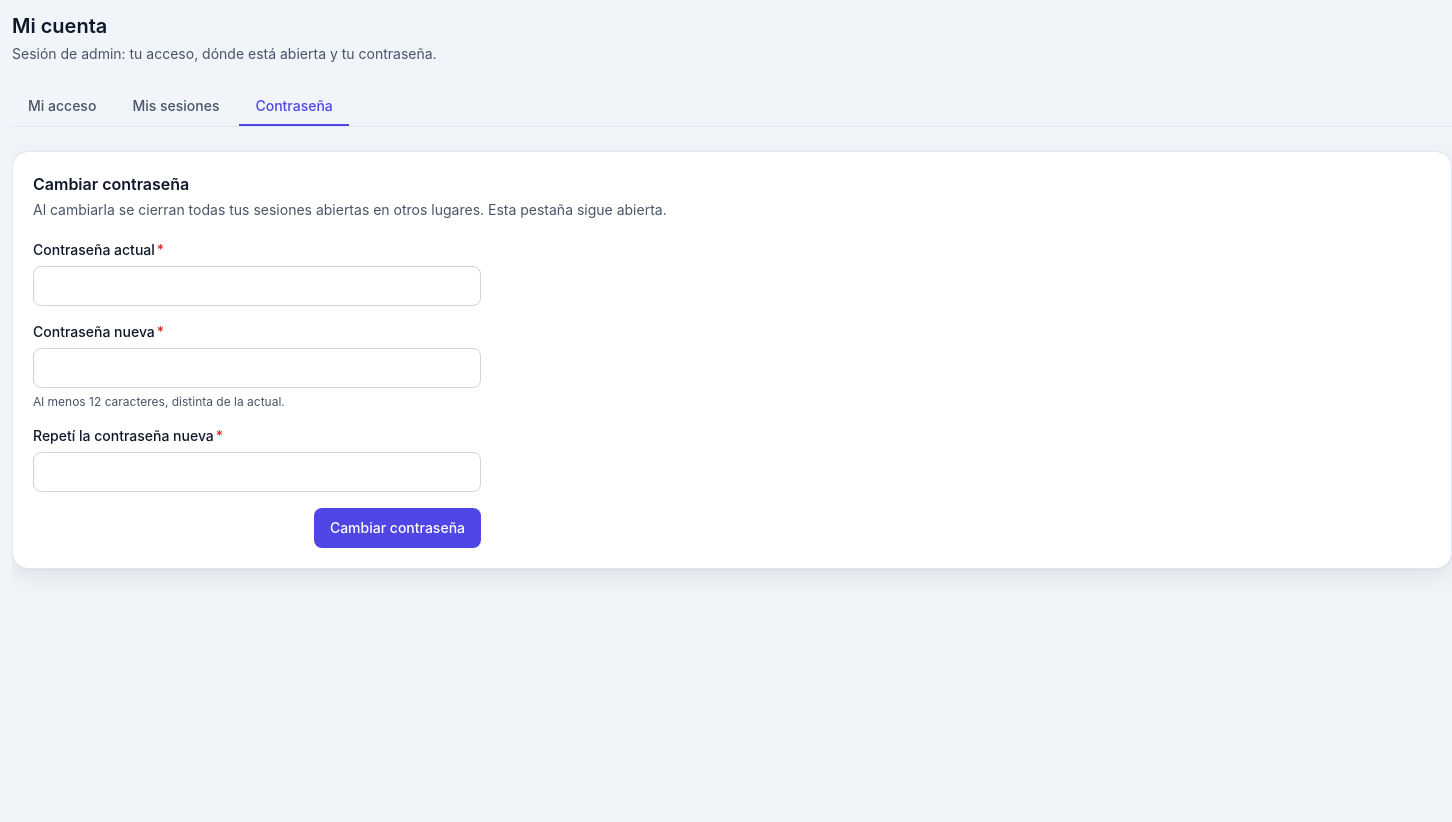
Test: MyAccountPage — «Contraseña» › pluraliza bien con 0 sesiones cerradas
Type "actual-de-doce-chars" into the password field labelled "Contraseña actual*" at (257, 286), box [33,266,481,306]
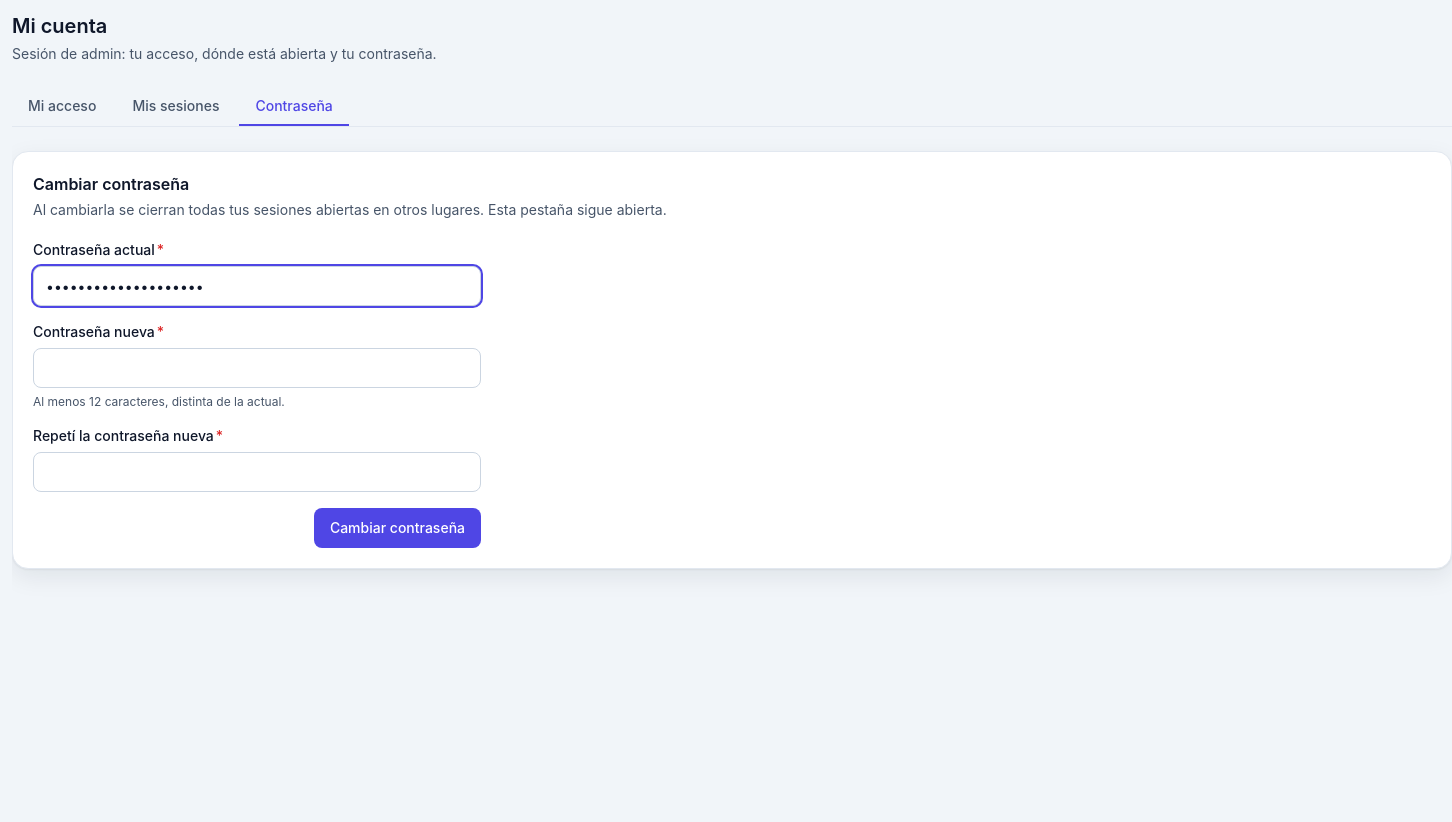
Type "nueva-de-doce-chars" into the password field labelled "Contraseña nueva*" at (257, 368), box [33,348,481,388]
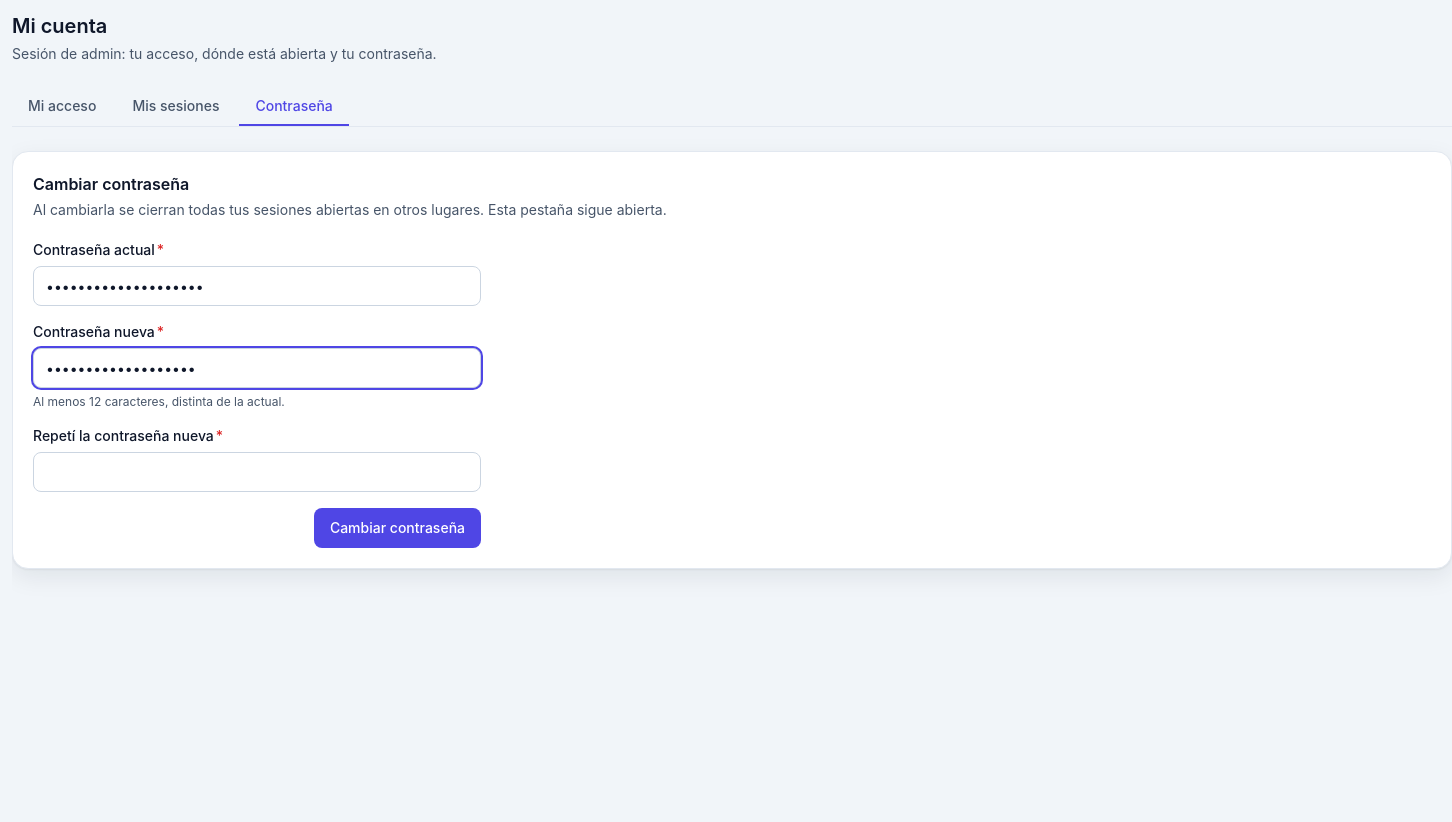
Type "nueva-de-doce-chars" into the password field labelled "Repetí la contraseña nueva*" at (257, 472), box [33,452,481,492]
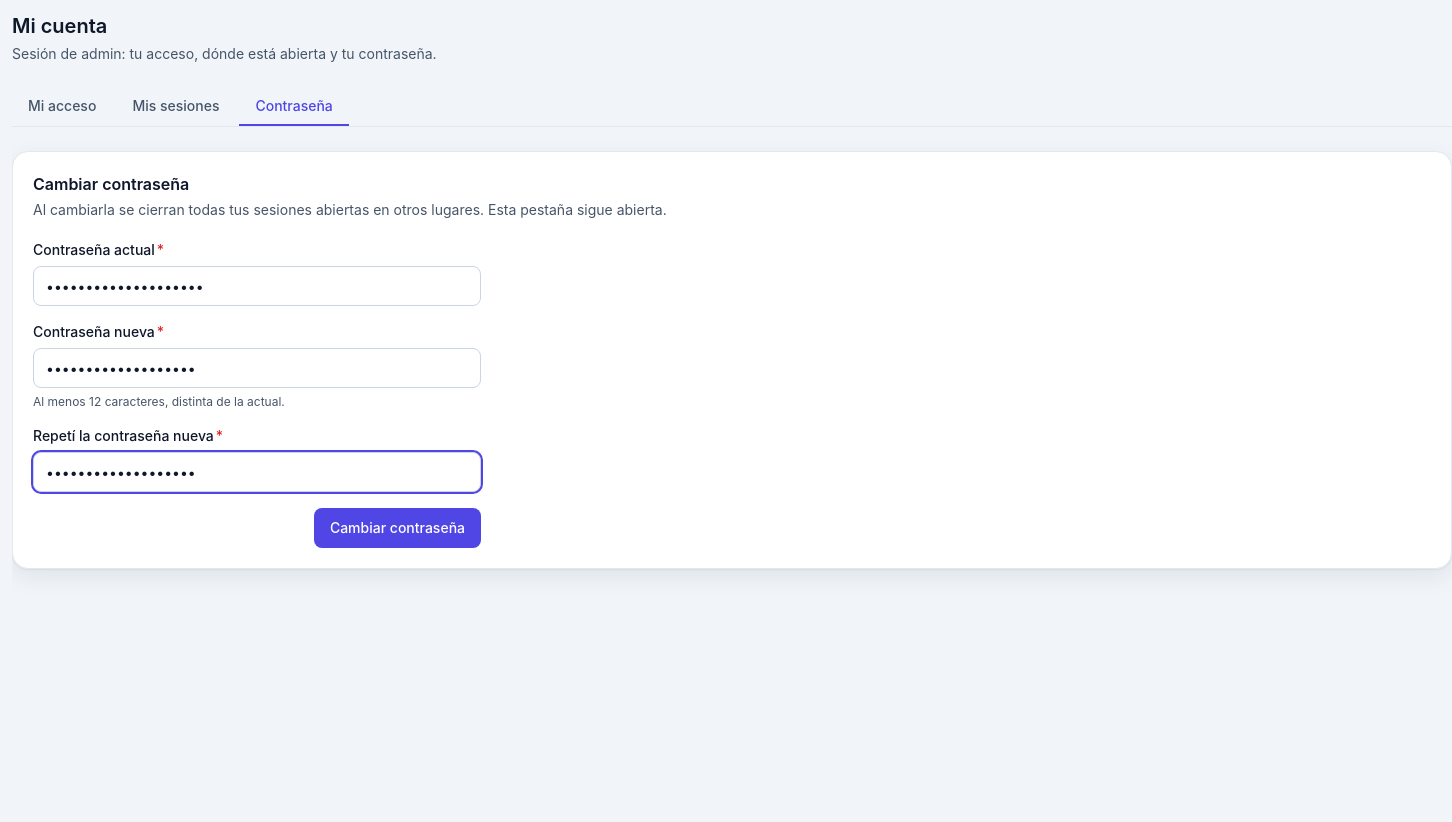
Click the button "Cambiar contraseña" at (397, 528), box [314,508,481,548]
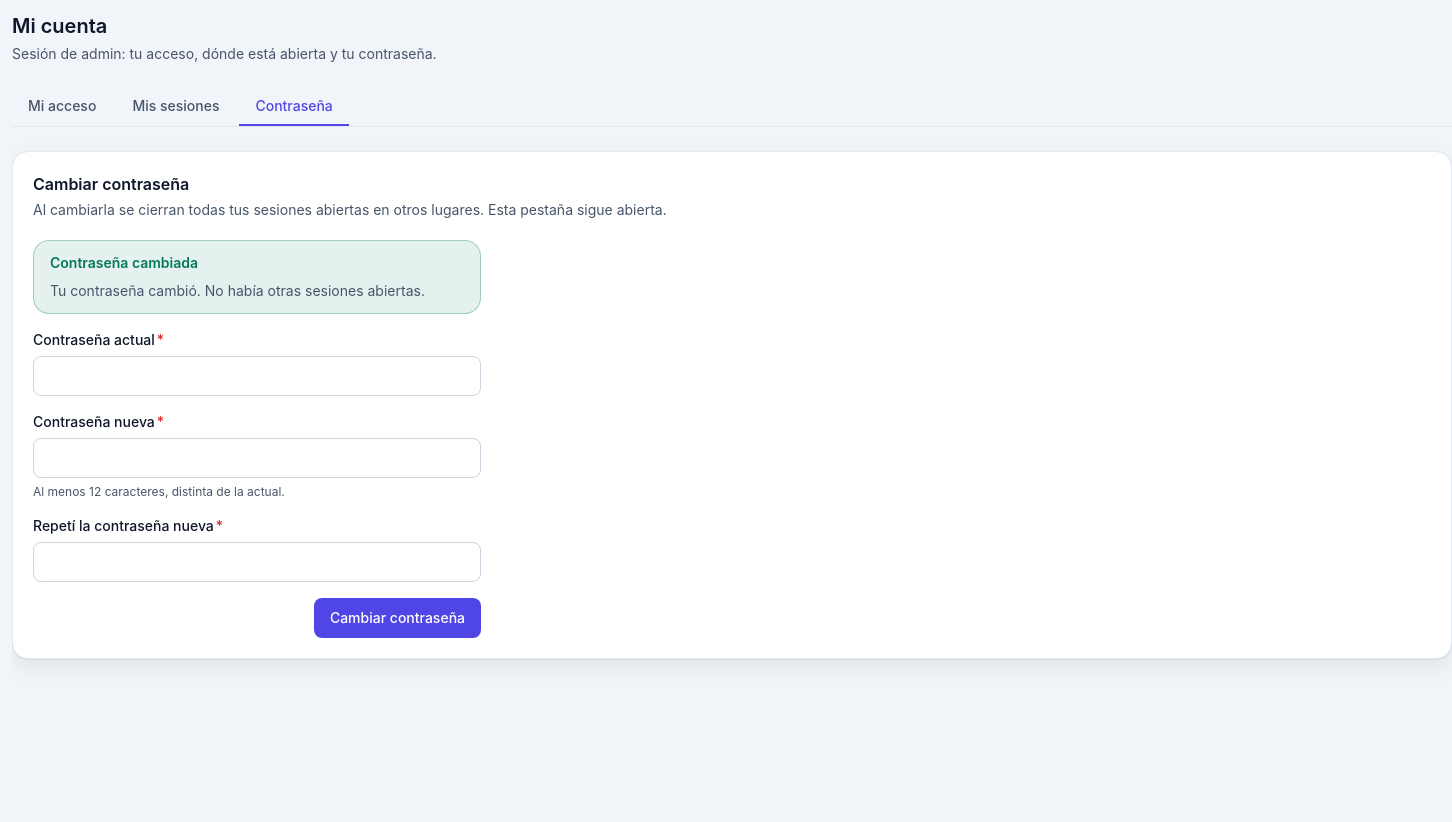
Expected: the text "Tu contraseña cambió. No había otras sesiones abiertas." is shown, [50,281,464,301]
